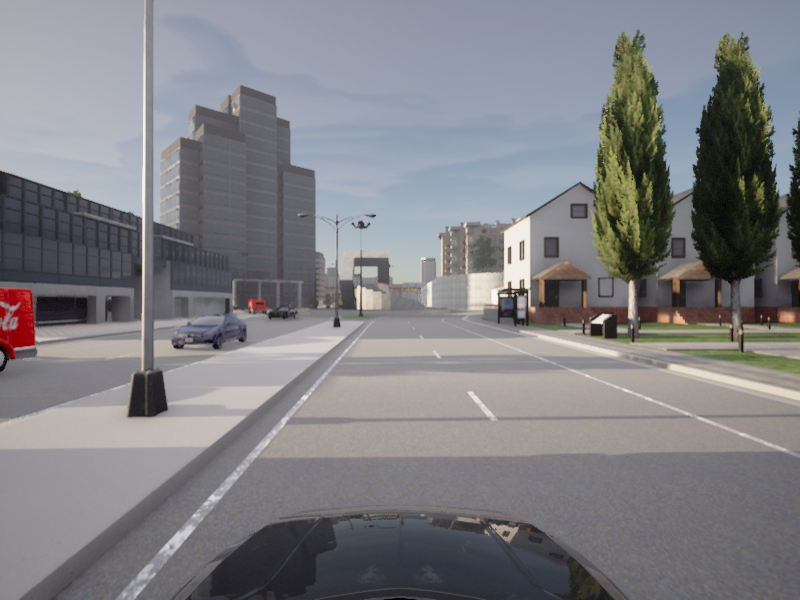vehicle: (0, 275, 43, 426), (165, 312, 252, 351), (264, 304, 300, 320)
